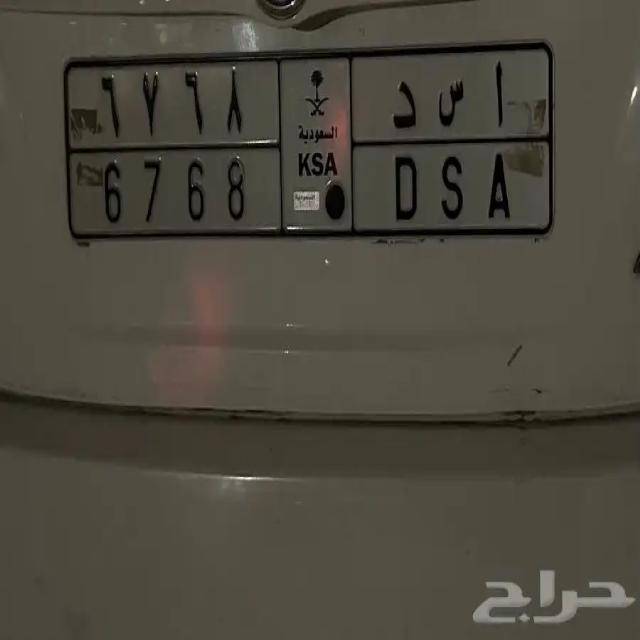license_plate: (65, 142, 558, 242)
